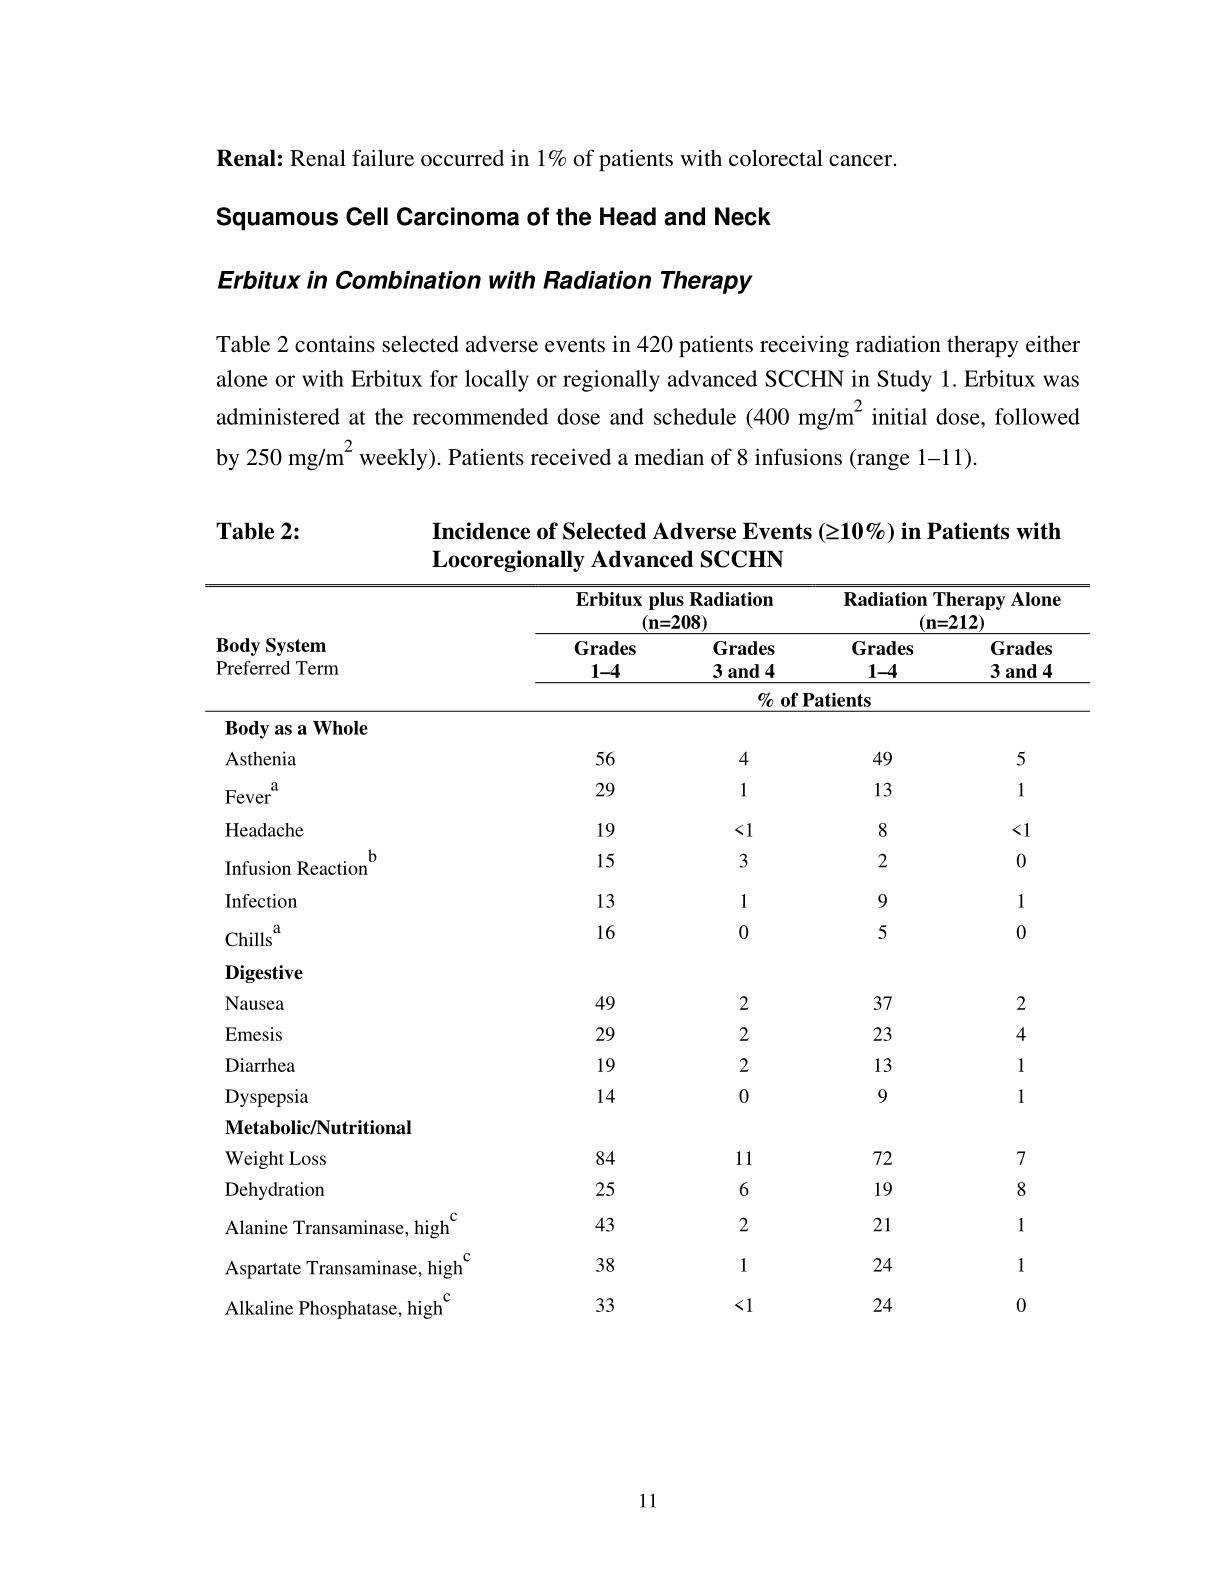partial_lined_merged_cells: (202, 586, 1094, 1329)
